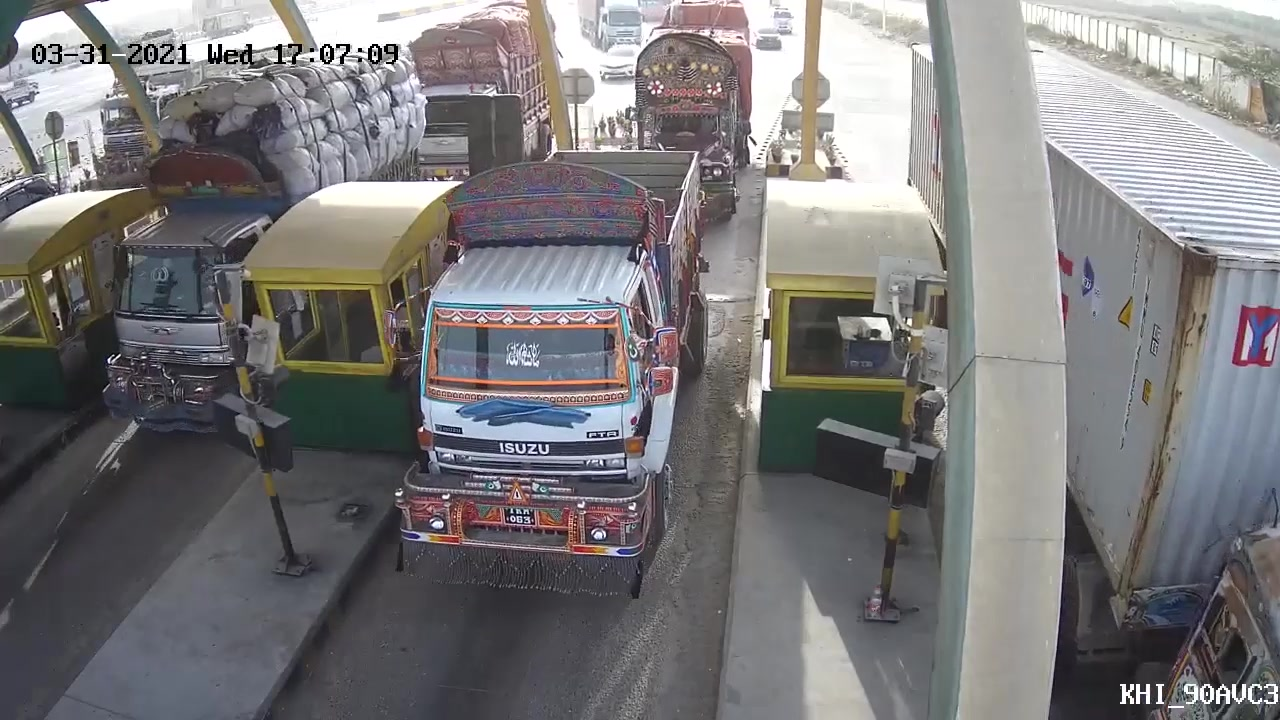F5: (395, 151, 701, 592)
